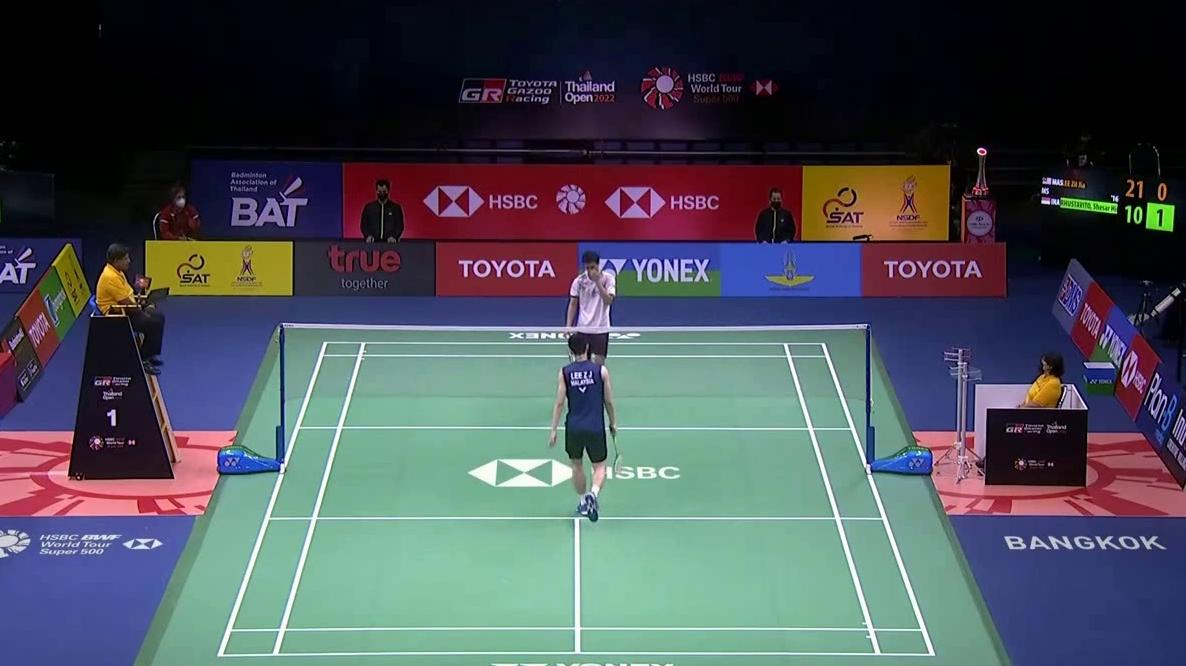racket: (611, 425, 623, 474)
